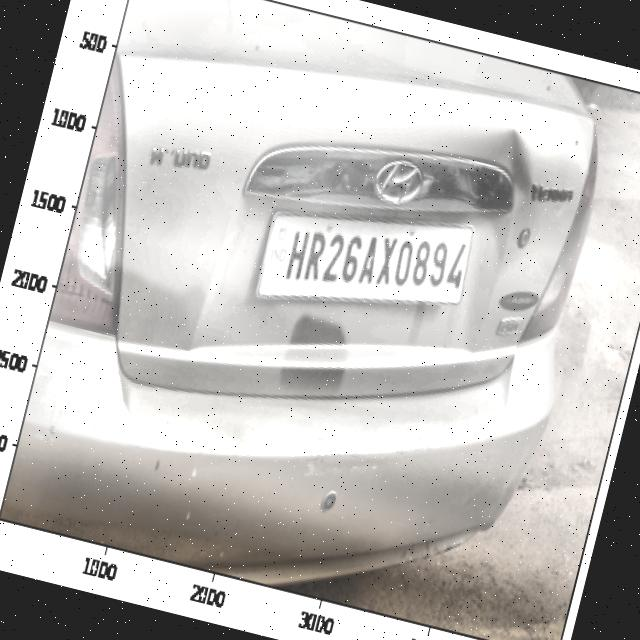license_plate: (276, 195, 473, 322)
